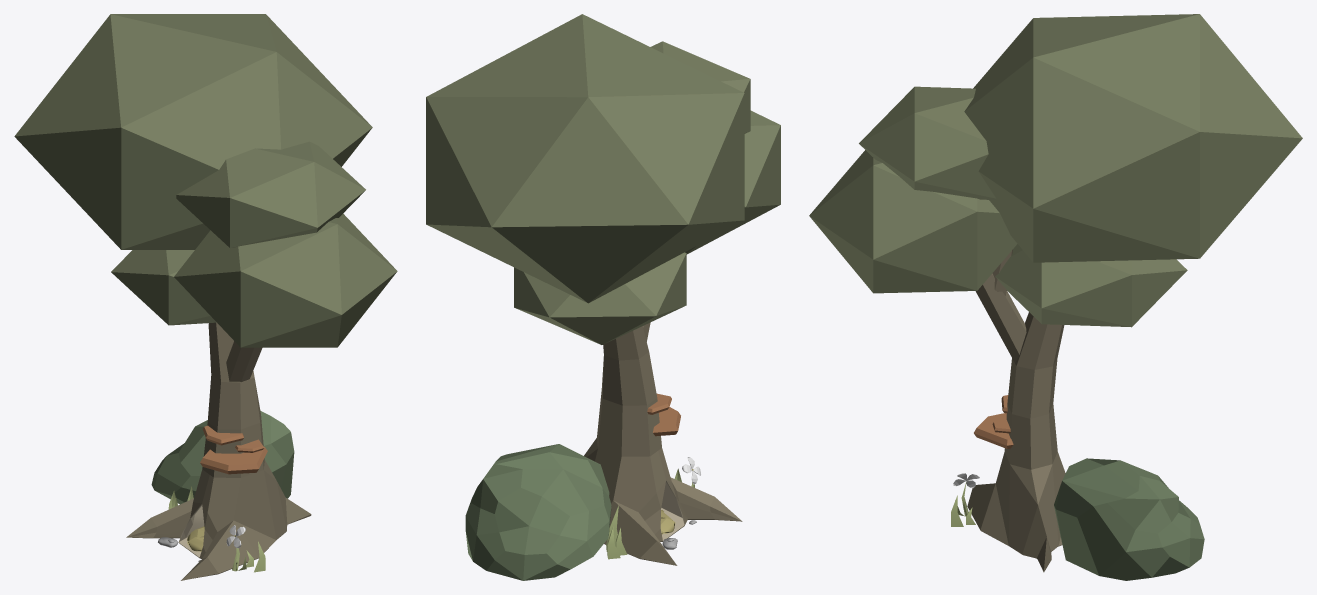
Rendered from CawsonDwelling.fbx.
3 renders of one model, left to right at view 1: azimuth 30°, elevation 25°; view 2: azimuth 150°, elevation 25°; view 3: azimuth 270°, elevation 25°, orthographic. The views are drawn at different scales.
Parts seen in each view (by area): view 1: CawsonDwelling5; view 2: CawsonDwelling5; view 3: CawsonDwelling5.
Part boxes in pixels (x1,y1,x2,y2): CawsonDwelling5: [14, 14, 397, 580]; CawsonDwelling5: [426, 14, 780, 580]; CawsonDwelling5: [809, 14, 1302, 580].
Size of the model in its own units: 8.55 by 14.04 by 12.67.
